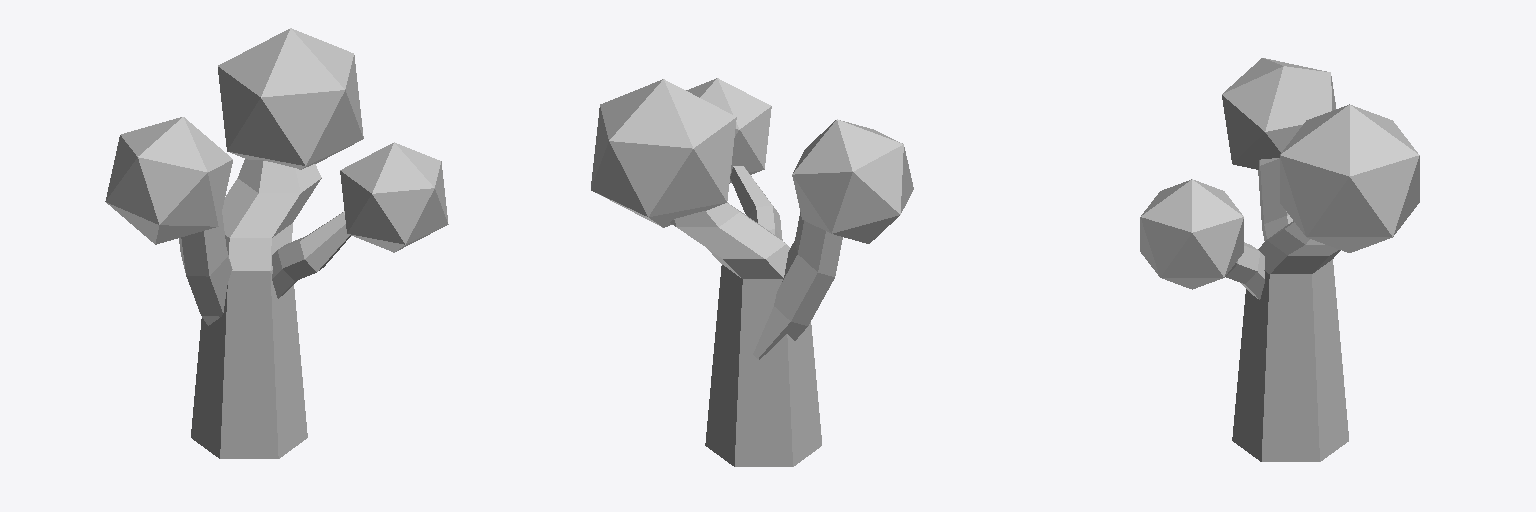
Rendered from tree2.obj.
3 renders of one model, left to right at view 1: azimuth 30°, elevation 25°; view 2: azimuth 150°, elevation 25°; view 3: azimuth 270°, elevation 25°, orthographic.
Parts seen in each view (by area): view 1: Cylinder; view 2: Cylinder; view 3: Cylinder.
Part boxes in pixels (x1,y1,x2,y2): Cylinder: (105,28,448,458); Cylinder: (591,78,913,466); Cylinder: (1140,58,1419,461).
Bounding box in the file's own units: 2.63 × 3.29 × 2.25.